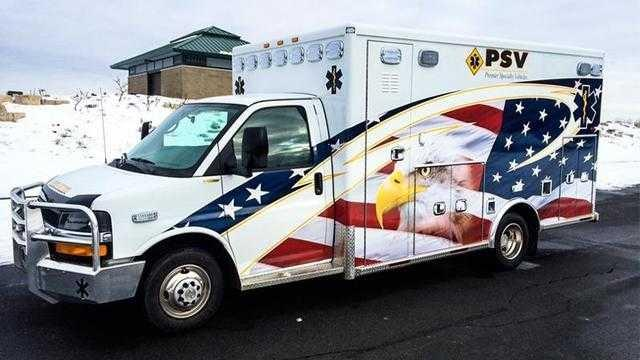car: (8, 23, 606, 333)
